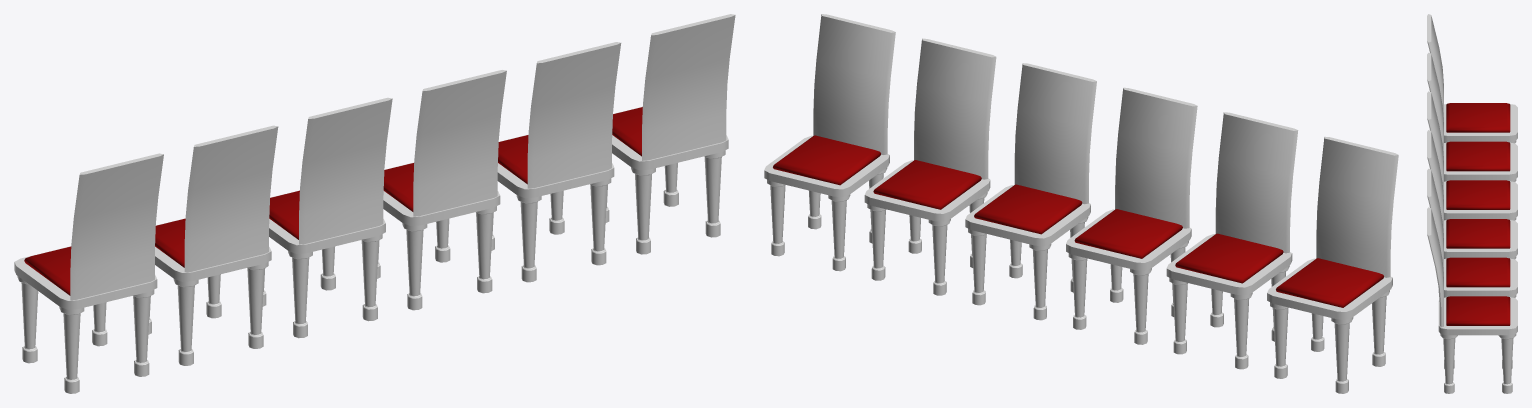
File: Hea_Player_Chairs.fbx
The picture shows the model from 3 angles, left to right: view 1: azimuth 30°, elevation 25°; view 2: azimuth 150°, elevation 25°; view 3: azimuth 270°, elevation 25°; orthographic projection. The views are drawn at different scales.
Visible parts, largest first — view 1: Chair.002; view 2: Chair.002; view 3: Chair.002.
Part boxes in pixels (x1=…): Chair.002: x1=14, y1=14, x2=735, y2=393; Chair.002: x1=764, y1=14, x2=1398, y2=393; Chair.002: x1=1427, y1=14, x2=1517, y2=393.
Size of the model in its own units: 314 by 103 by 53.42.
